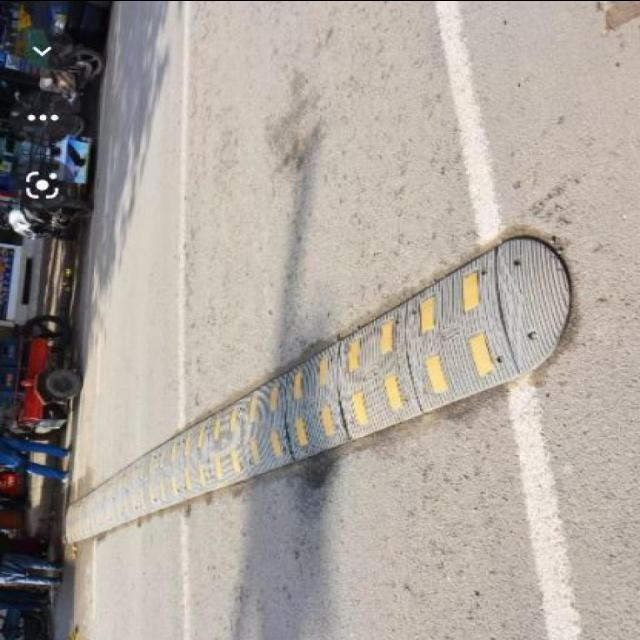speedbreaker: (52, 230, 582, 554)
